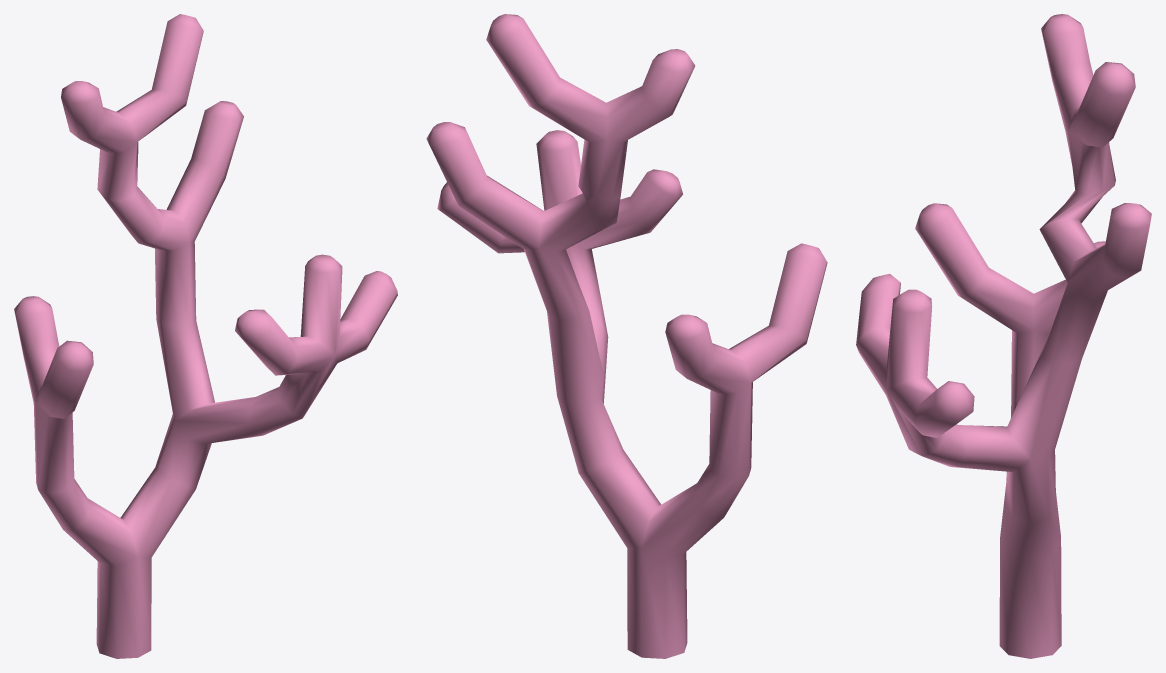
Rendered from Sea_plant_1_4.002.fbx.
The picture shows the model from 3 angles, left to right: view 1: azimuth 30°, elevation 25°; view 2: azimuth 150°, elevation 25°; view 3: azimuth 270°, elevation 25°; orthographic projection. The views are drawn at different scales.
Parts seen in each view (by area): view 1: Sea_plant_1_4.002; view 2: Sea_plant_1_4.002; view 3: Sea_plant_1_4.002.
Boxes of the visible parts, left/top/right/bottom form: Sea_plant_1_4.002: left=14, top=14, right=397, bottom=658; Sea_plant_1_4.002: left=426, top=14, right=827, bottom=658; Sea_plant_1_4.002: left=856, top=14, right=1151, bottom=658.
Bounding box in the file's own units: 0.8557 × 1.37 × 0.5814.
